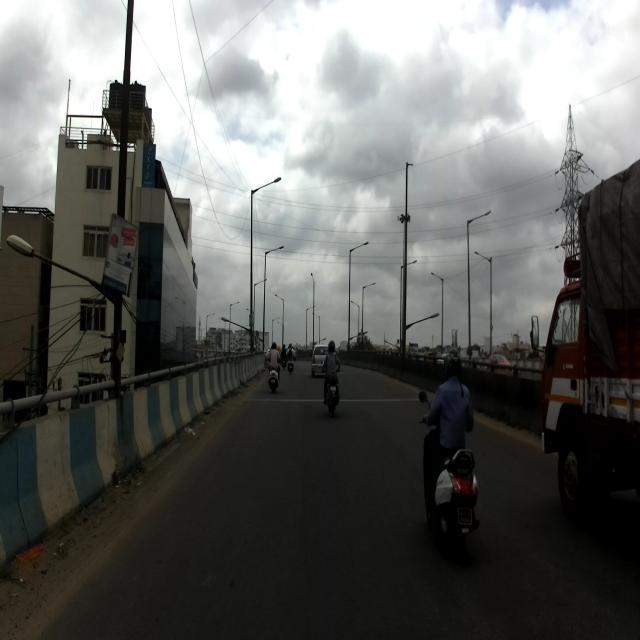scooter: (417, 389, 481, 561)
truck: (529, 158, 640, 524)
